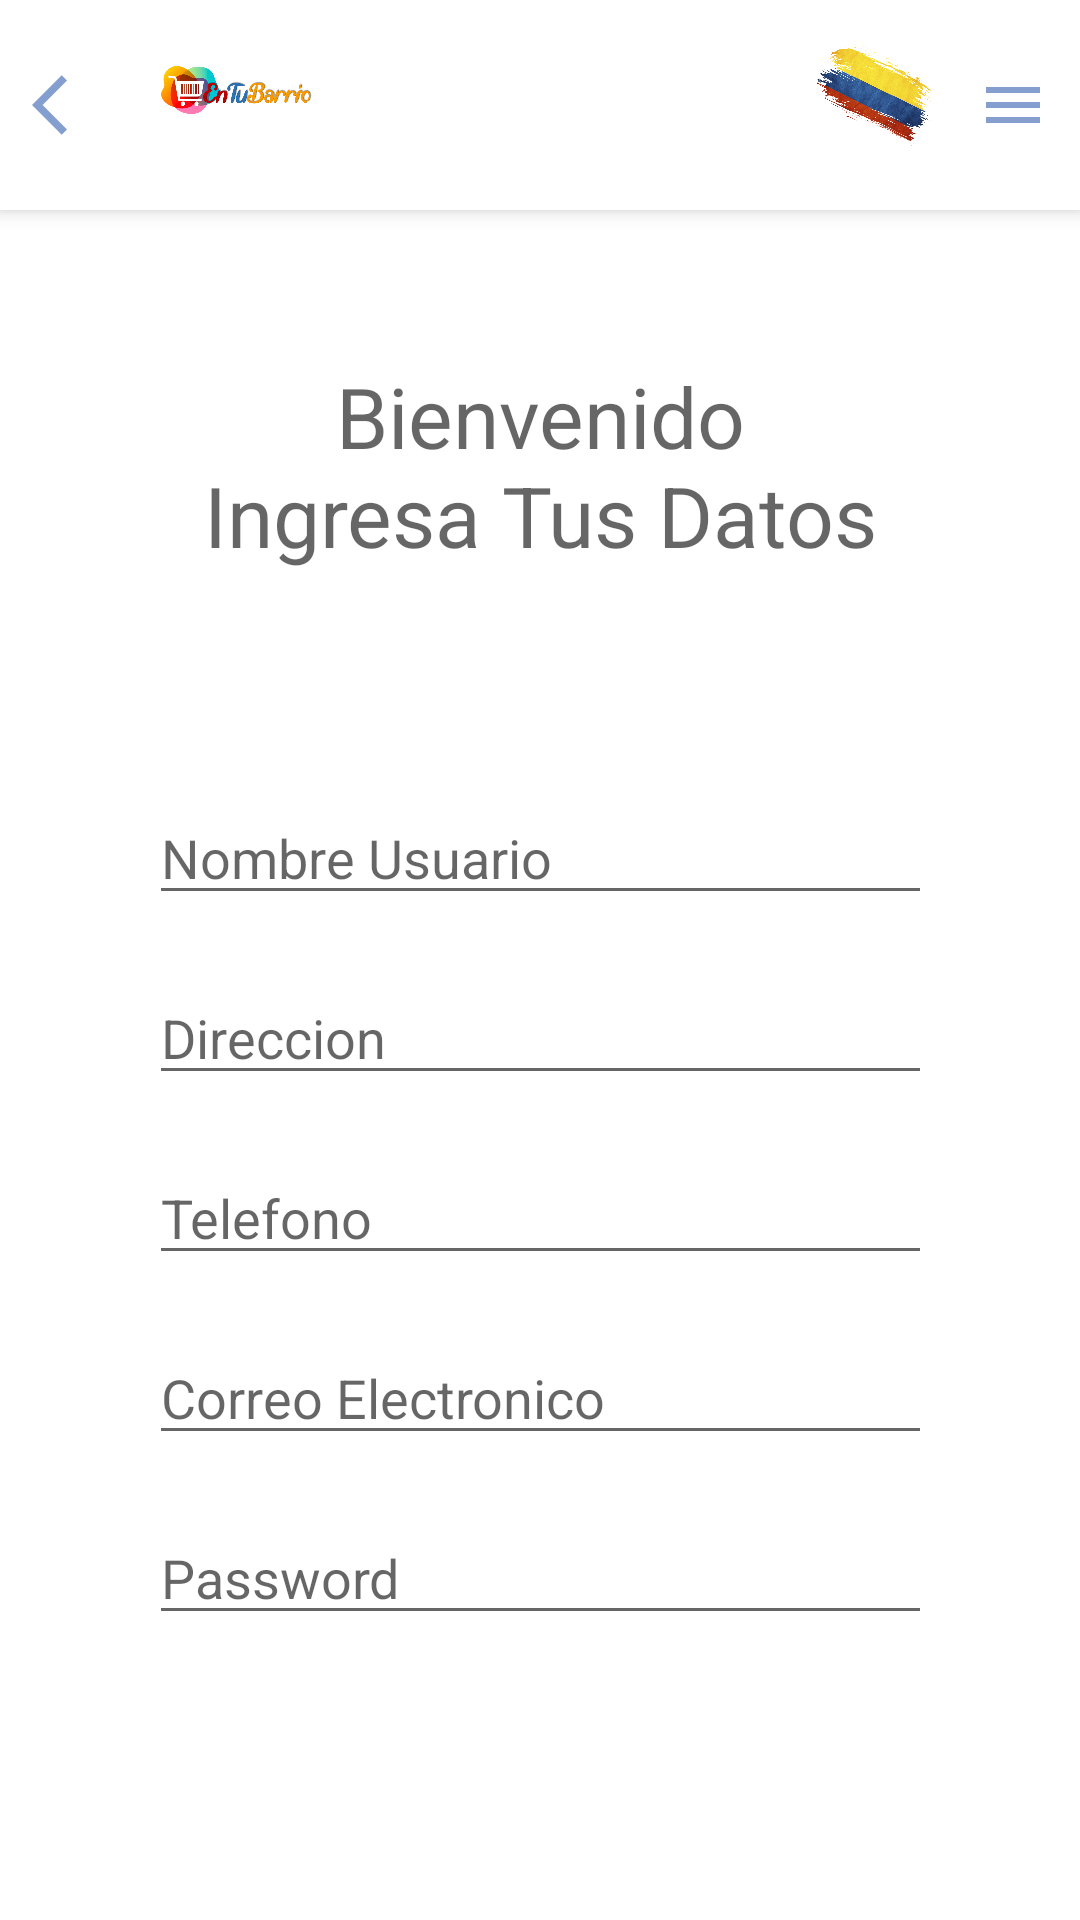

Icons on this 1080 × 1920 Android screen, each with the point to tap as (x,y):
arrow back: (49,105)
menu: (1013,105)
